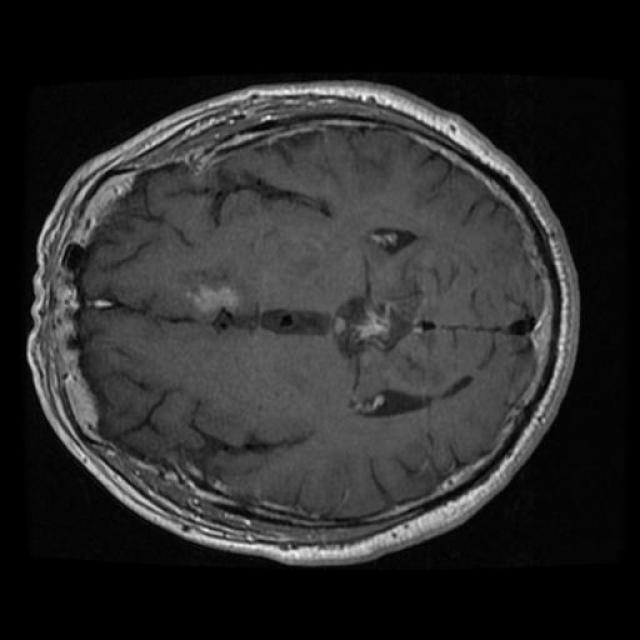Pituitary: (187, 283, 241, 323)
